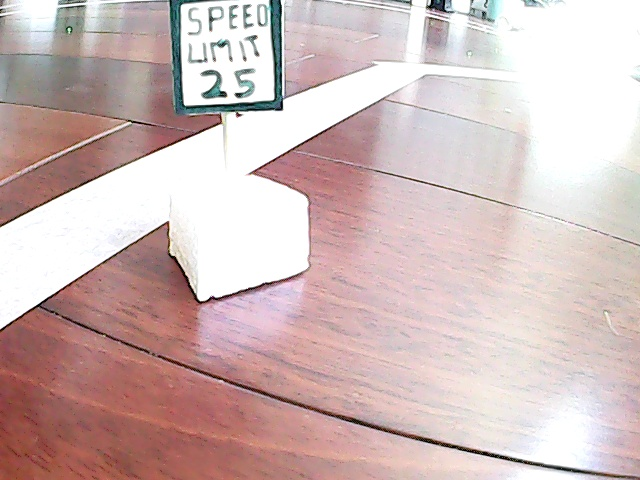speed_25: (144, 1, 325, 302)
